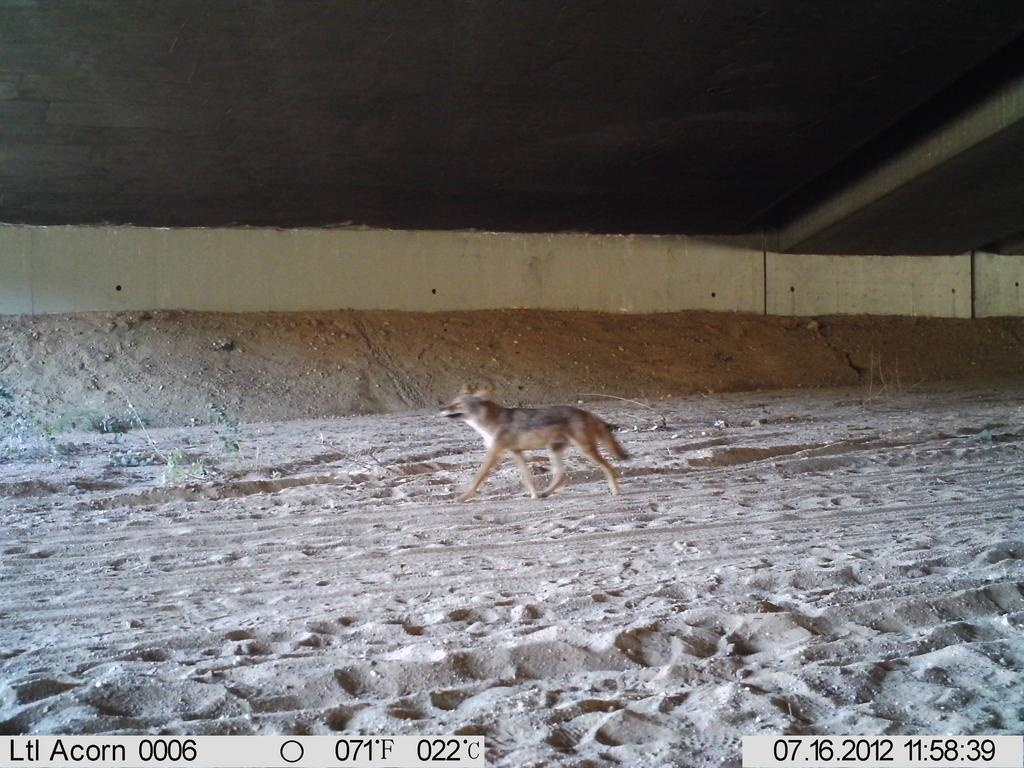coyote: (437, 381, 634, 509)
